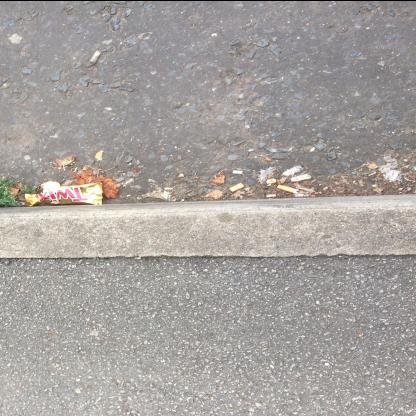plastik: (25, 181, 104, 207)
